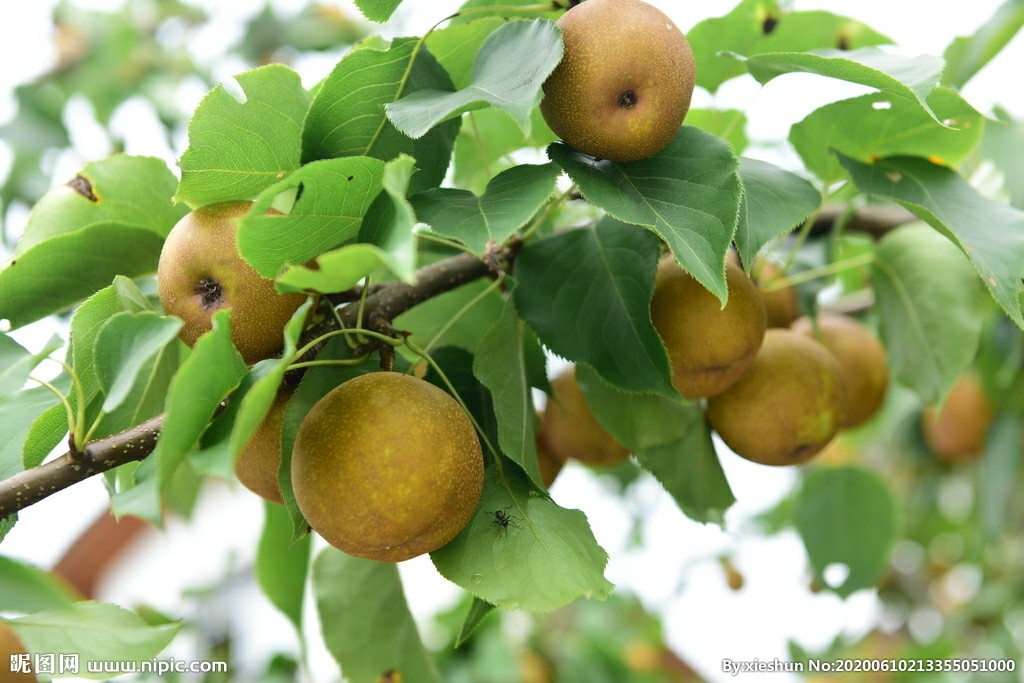pear: (292, 370, 483, 561), (538, 2, 696, 160), (157, 199, 309, 361), (636, 253, 765, 396), (710, 326, 840, 466), (234, 370, 327, 503), (790, 309, 890, 429), (542, 369, 634, 466)
